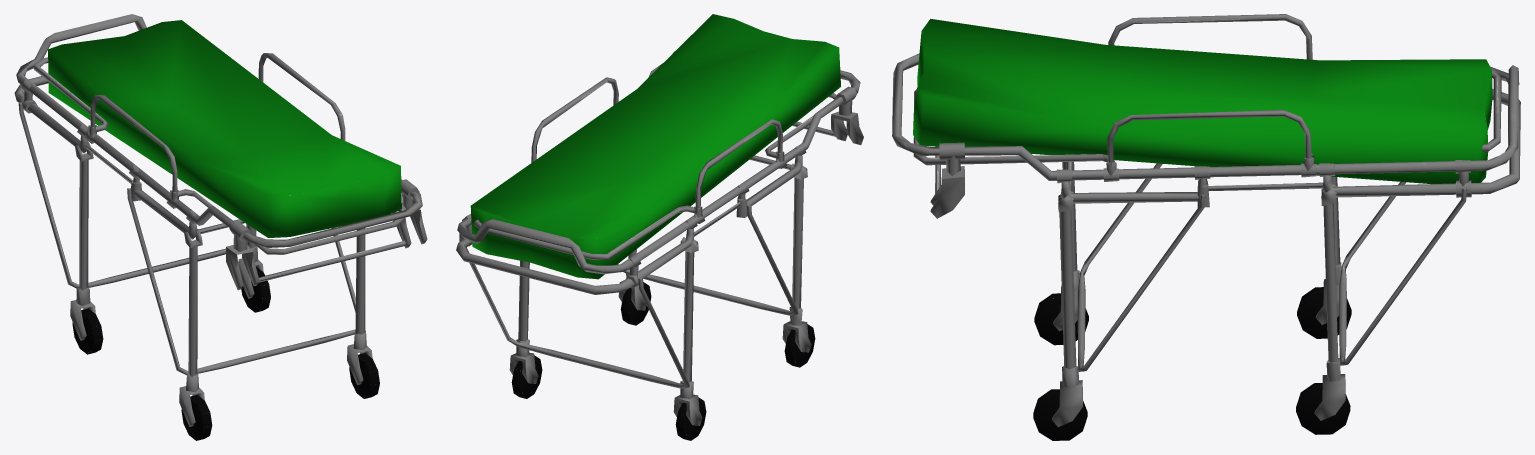
File: surgerybed.fbx
3 views of the same model, side by side, from view 1: azimuth 30°, elevation 25°; view 2: azimuth 150°, elevation 25°; view 3: azimuth 270°, elevation 25° (orthographic). The views are drawn at different scales.
Visible parts, largest first — view 1: matress, metal bar, wheels; view 2: matress, metal bar, wheels; view 3: matress, metal bar, wheels.
Part boxes in pixels (<box>): matress: <box>48,20,401,237</box>; metal bar: <box>14,14,427,426</box>; wheels: <box>72,266,379,440</box>; matress: <box>470,14,840,279</box>; metal bar: <box>456,51,863,425</box>; wheels: <box>511,282,815,440</box>; matress: <box>913,19,1492,183</box>; metal bar: <box>892,14,1520,427</box>; wheels: <box>1033,287,1351,440</box>.
Size of the model in its own units: 4536 by 6392 by 10940.
Materials: 3 (3 with a texture image).
